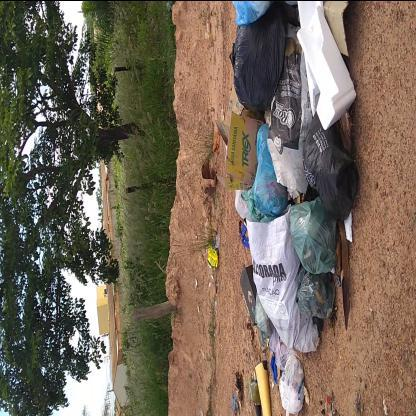lixo: (226, 9, 360, 336)
